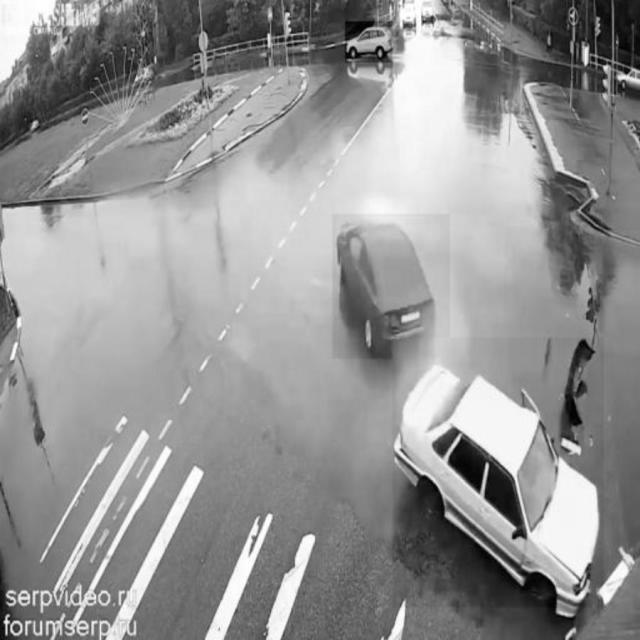vehicle: (393, 337, 604, 608), (332, 214, 450, 358), (345, 22, 393, 63), (418, 0, 434, 28), (400, 4, 416, 26)
